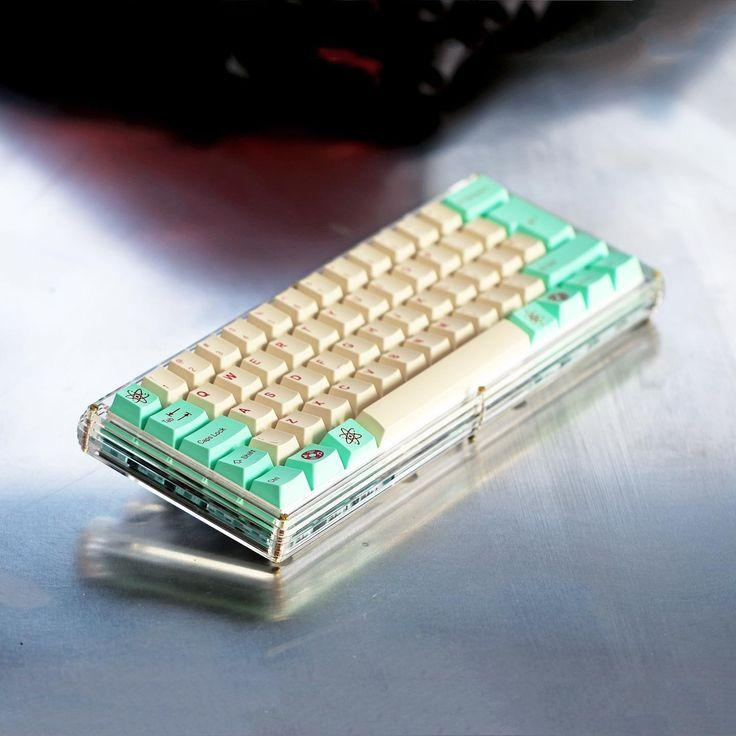keyboard: (76, 171, 664, 565)
